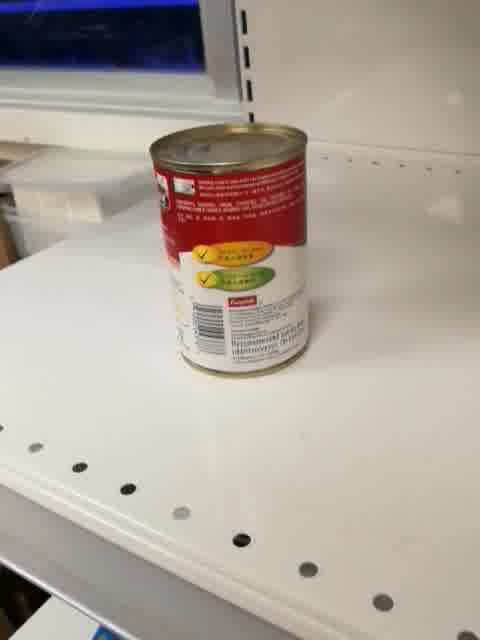tomatosoup: (148, 121, 312, 380)
